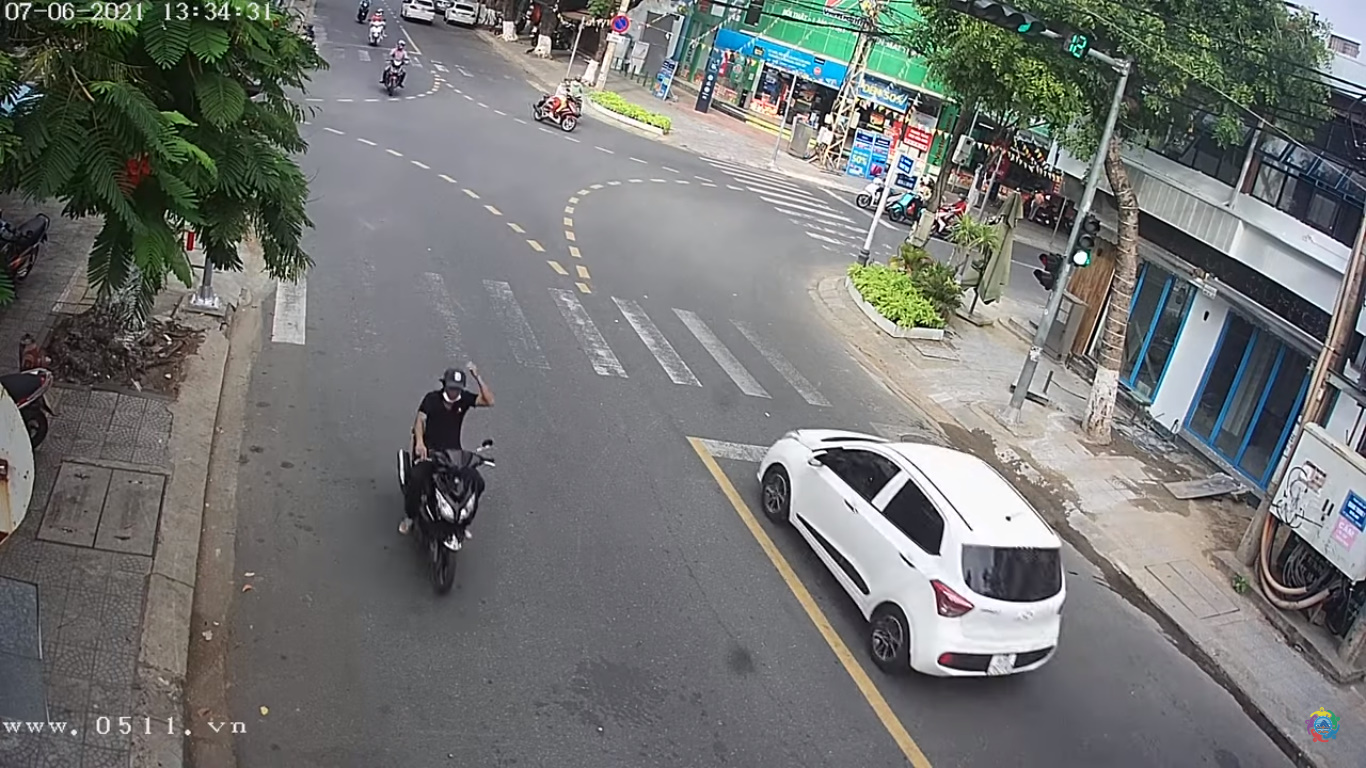motorbike: (404, 379, 490, 595)
